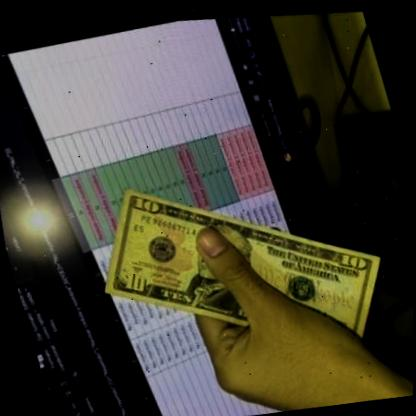ten-front: (67, 113, 412, 413)
